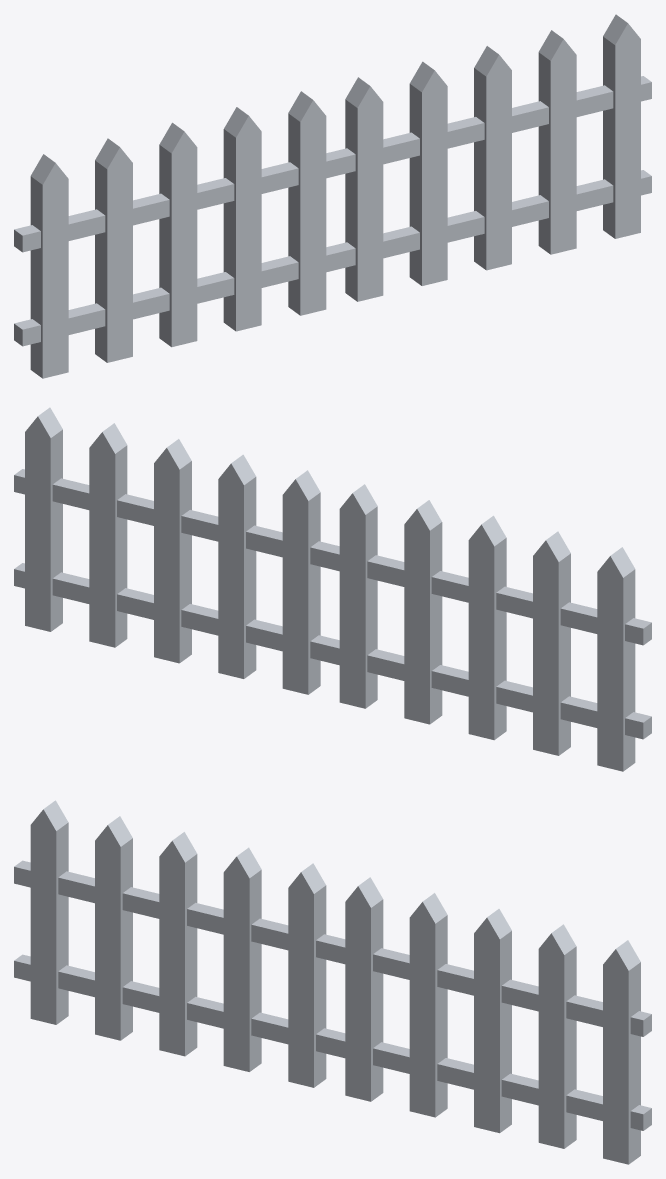
The model's file is Building_Objects_Fence_02.fbx.
The picture shows the model from 3 angles, top to bottom: view 1: azimuth 30°, elevation 25°; view 2: azimuth 150°, elevation 25°; view 3: azimuth 330°, elevation 25°; orthographic projection.
Parts seen in each view (by area): view 1: Building_Objects_Fence_02; view 2: Building_Objects_Fence_02; view 3: Building_Objects_Fence_02.
Part boxes in pixels (x1,y1,x2,y2): Building_Objects_Fence_02: [14, 14, 651, 378]; Building_Objects_Fence_02: [14, 407, 651, 771]; Building_Objects_Fence_02: [14, 800, 651, 1164].
Bounding box in the file's own units: 270 × 87.06 × 9.07.
